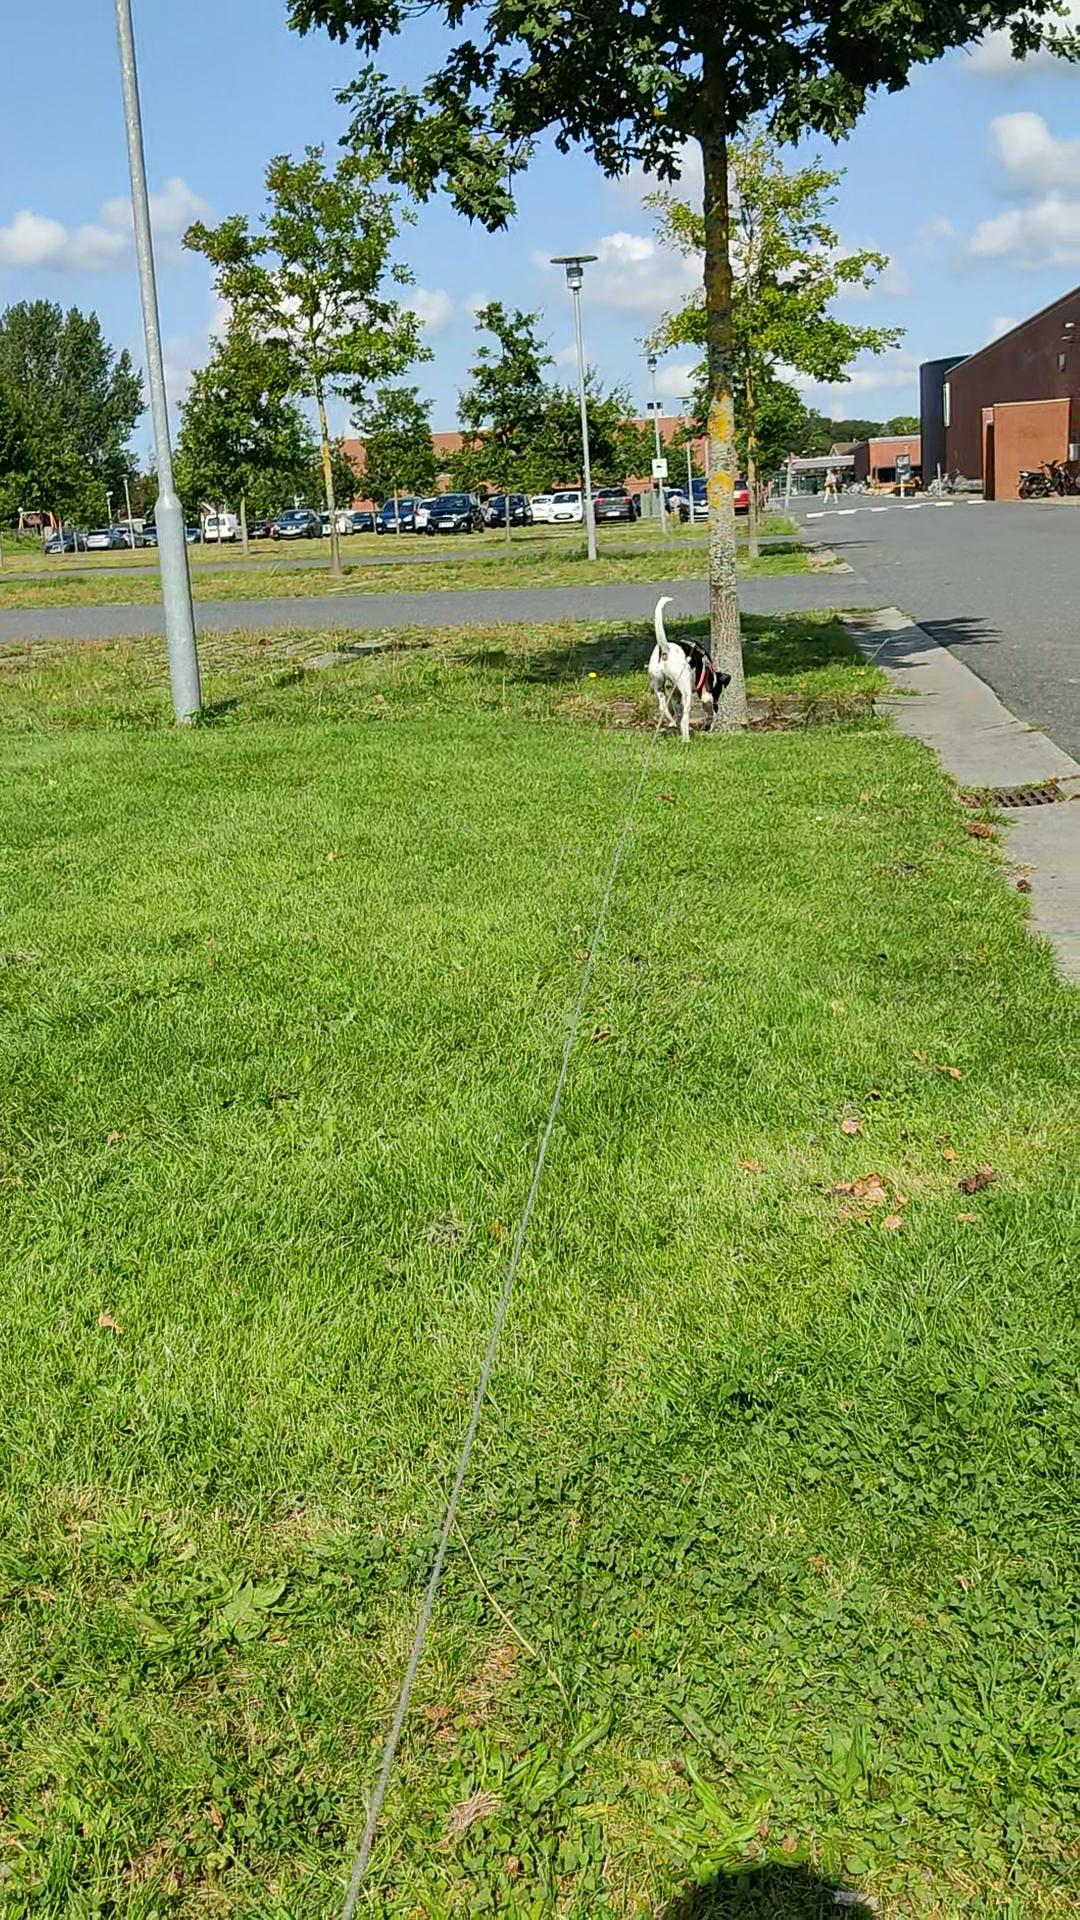Dog: (644, 593, 732, 745)
